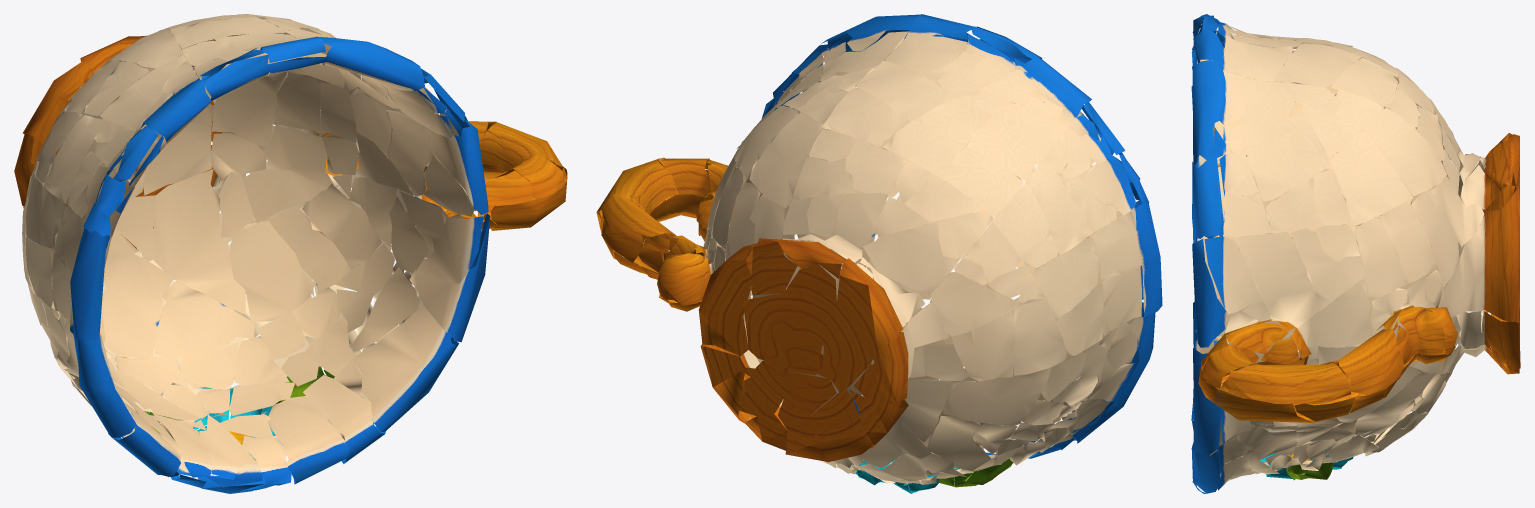
Rendered from flower_teacup_v1.glb.
The picture shows the model from 3 angles, left to right: view 1: azimuth 30°, elevation 25°; view 2: azimuth 150°, elevation 25°; view 3: azimuth 270°, elevation 25°; orthographic projection. The views are drawn at different scales.
Visible parts, largest first — view 1: Mesh_0; view 2: Mesh_0; view 3: Mesh_0.
Boxes of the visible parts, box(x1,y1,x2,y2) form: Mesh_0: box(14, 14, 567, 493); Mesh_0: box(596, 14, 1162, 493); Mesh_0: box(1191, 14, 1520, 493).
Bounding box in the file's own units: 1.9 × 1.54 × 1.06.
1 material, 1 textured.
